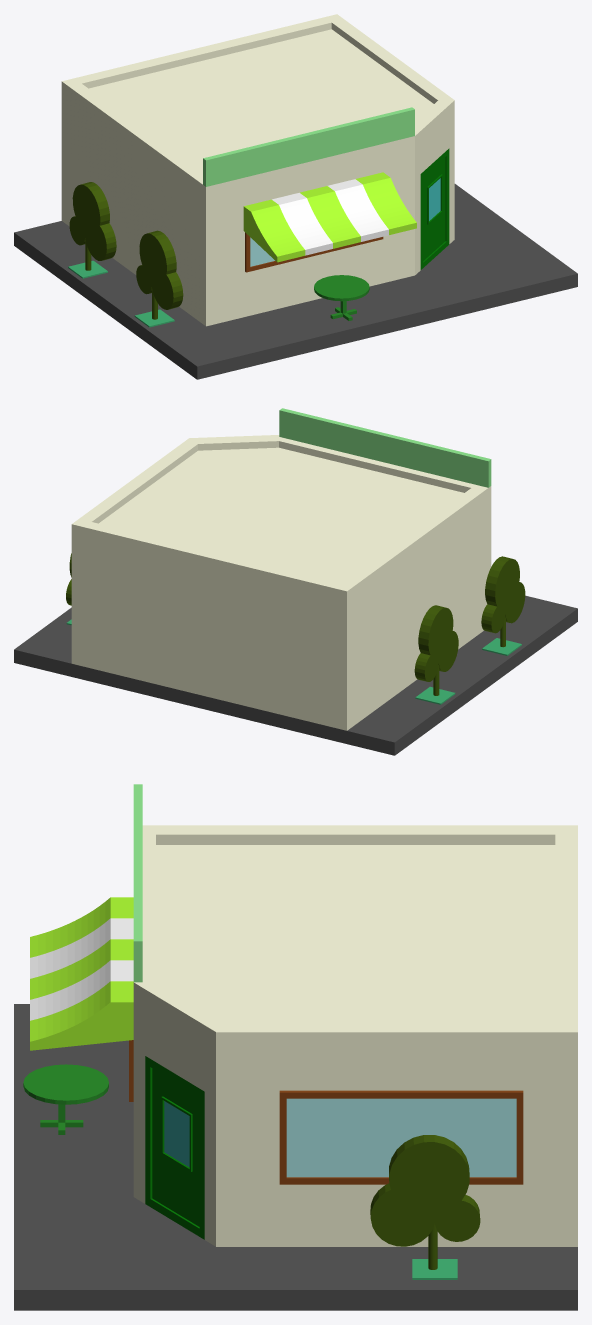
Rendered from restaurant.FBX.
The picture shows the model from 3 angles, top to bottom: view 1: azimuth 30°, elevation 25°; view 2: azimuth 150°, elevation 25°; view 3: azimuth 270°, elevation 25°; orthographic projection. The views are drawn at different scales.
Parts seen in each view (by area): view 1: Group2, Group1, Group8, Group28, Group17, Group25, Group3, Group4, Group6, Group7, Group5, Group10 (+1 smaller); view 2: Group2, Group1, Group8, Group17, Group25; view 3: Group2, Group1, Group13, Group21, Group28, Group7, Group10, Group4, Group5, Group6, Group3, Group8 (+1 smaller).
Boxes of the visible parts, bbox=[...] form: Group2: bbox=[61, 14, 454, 326]; Group1: bbox=[14, 184, 577, 379]; Group8: bbox=[203, 107, 414, 186]; Group28: bbox=[420, 148, 449, 269]; Group17: bbox=[136, 230, 183, 309]; Group25: bbox=[69, 182, 116, 260]; Group3: bbox=[243, 199, 305, 262]; Group4: bbox=[272, 192, 332, 255]; Group6: bbox=[328, 179, 388, 241]; Group7: bbox=[355, 172, 416, 234]; Group5: bbox=[300, 186, 360, 248]; Group10: bbox=[314, 275, 369, 301]; Group2: bbox=[71, 435, 491, 730]; Group1: bbox=[14, 595, 577, 755]; Group8: bbox=[279, 408, 491, 487]; Group17: bbox=[481, 556, 525, 633]; Group25: bbox=[414, 605, 458, 681]; Group2: bbox=[133, 825, 577, 1246]; Group1: bbox=[14, 1004, 577, 1310]; Group13: bbox=[279, 1090, 523, 1184]; Group21: bbox=[370, 1135, 480, 1246]; Group28: bbox=[145, 1056, 204, 1239]; Group7: bbox=[30, 981, 133, 1050]; Group10: bbox=[23, 1064, 108, 1104]; Group4: bbox=[30, 918, 133, 978]; Group5: bbox=[30, 939, 133, 999]; Group6: bbox=[30, 960, 133, 1020]; Group3: bbox=[30, 897, 133, 957]; Group8: bbox=[133, 784, 142, 982].
Bounding box in the file's own units: 11.81 × 5.31 × 9.84.
